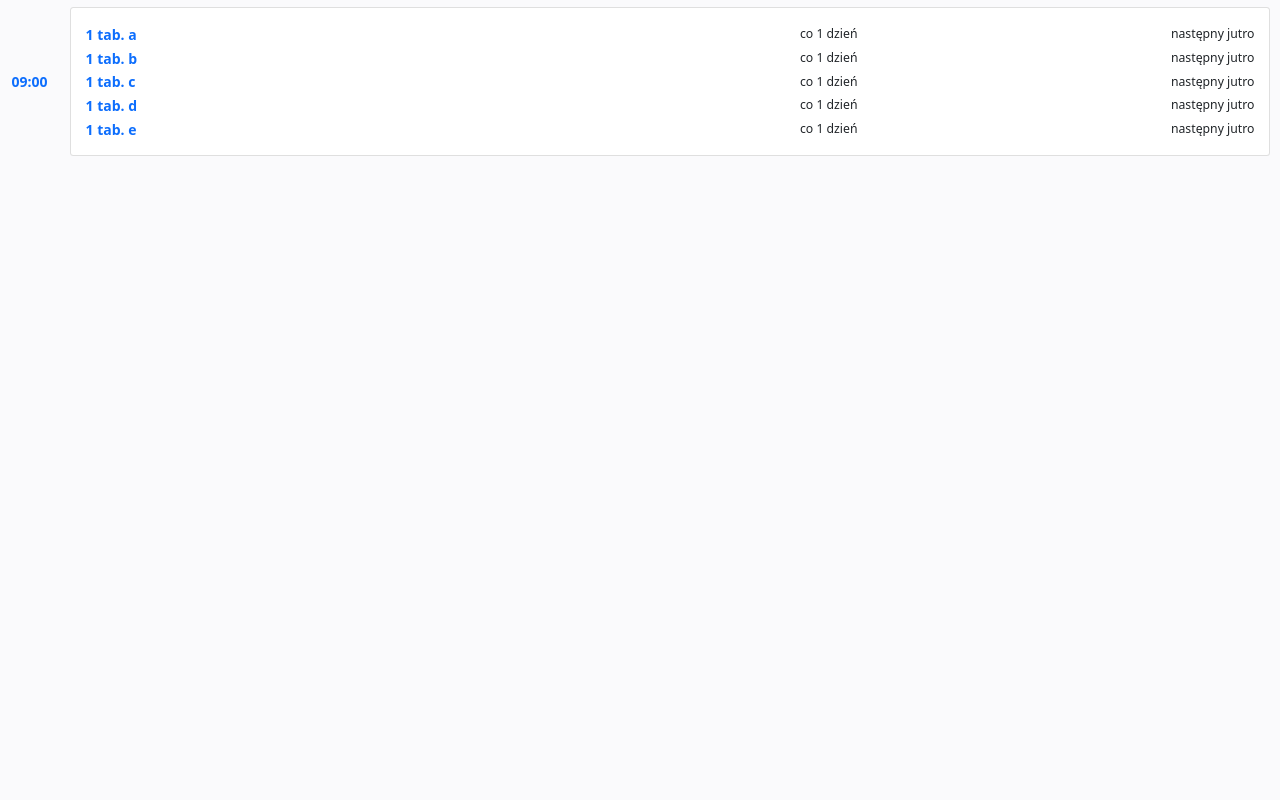
Test case: Schedule time dialog label › declines the number of doses
Click the button "09:00": (30, 81) [10,70,48,93]
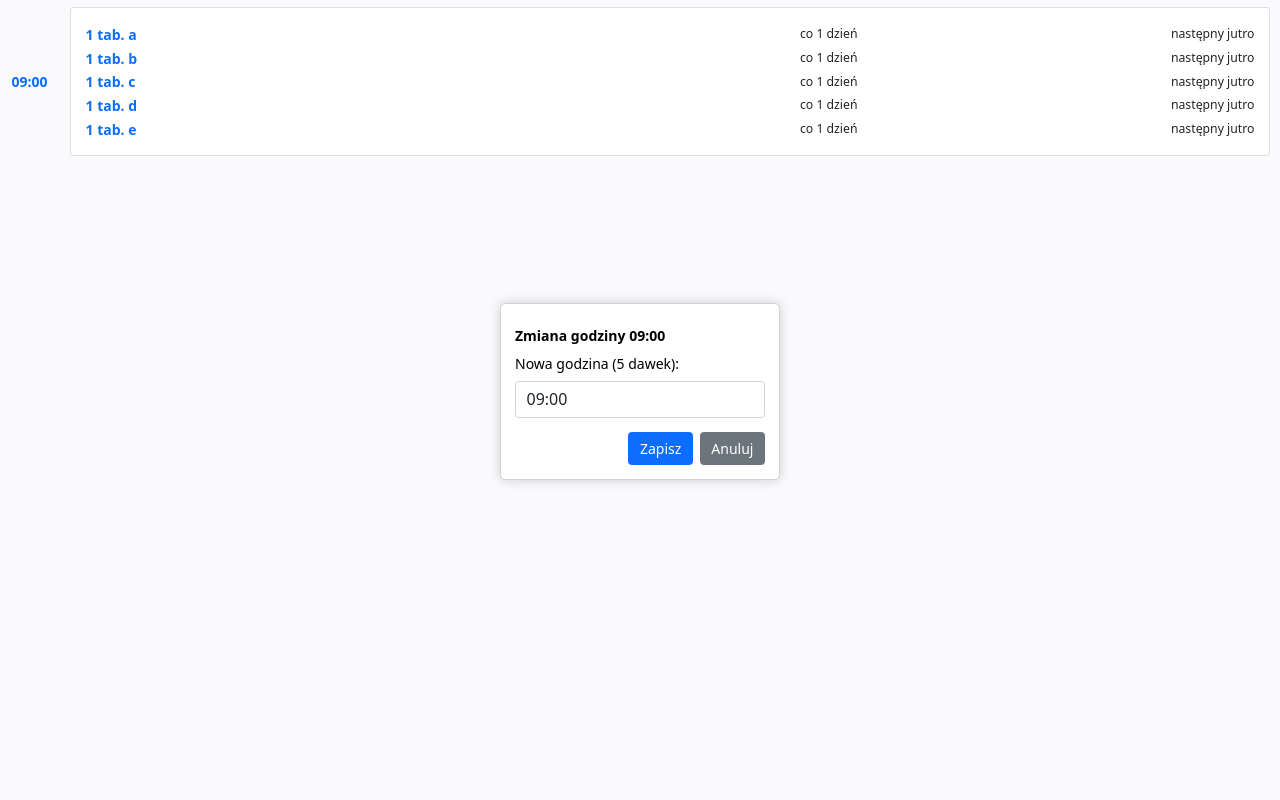
Expected: the text "Nowa godzina (5 dawek):" is shown, [515,353,679,374]
